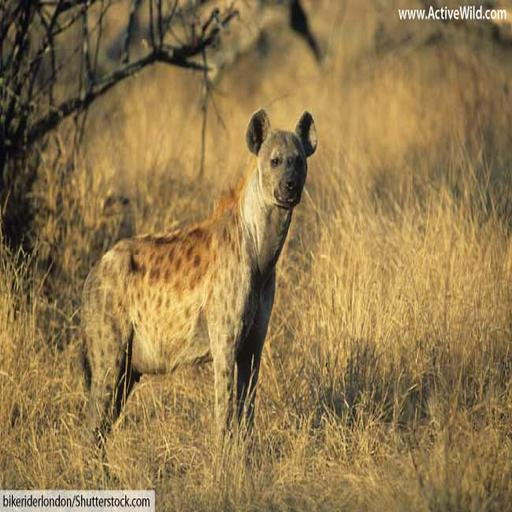Hyena: (54, 104, 328, 465)
